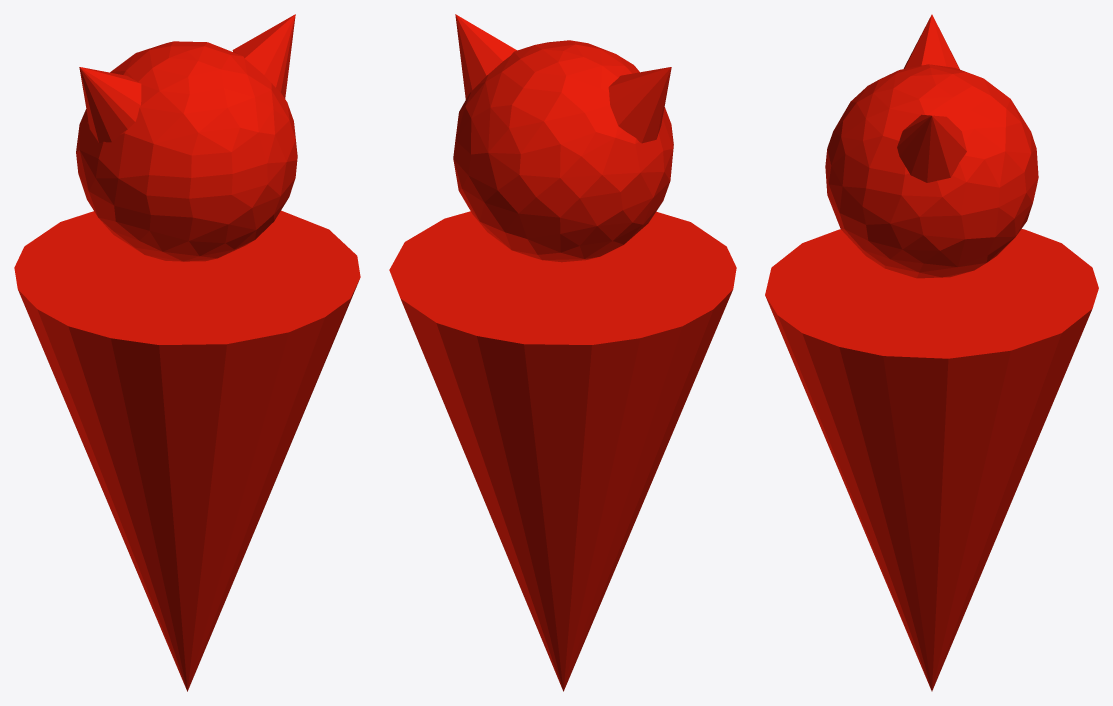
File: Enemy_Model.fbx
3 views of the same model, side by side, from view 1: azimuth 30°, elevation 25°; view 2: azimuth 150°, elevation 25°; view 3: azimuth 270°, elevation 25° (orthographic). The views are drawn at different scales.
Parts seen in each view (by area): view 1: Sphere; view 2: Sphere; view 3: Sphere.
Boxes of the visible parts, x1,y1,x2,y2 form: Sphere: [14, 14, 360, 691]; Sphere: [389, 14, 736, 691]; Sphere: [765, 14, 1098, 691].
Bounding box in the file's own units: 98.6 × 204 × 98.6.
